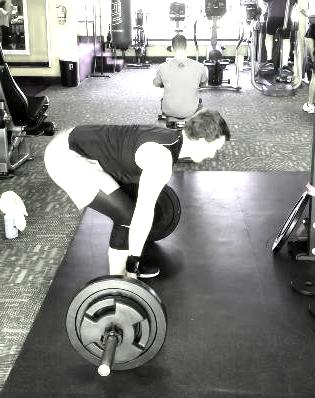Barbell: (94, 360, 111, 379)
